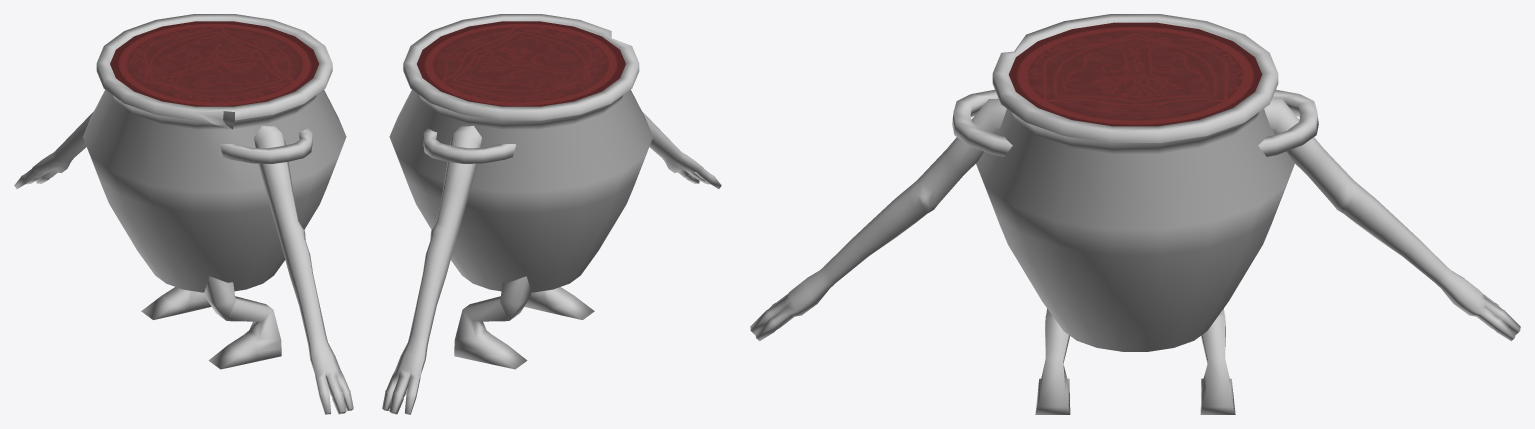
File: Alexandr.fbx
The picture shows the model from 3 angles, left to right: view 1: azimuth 30°, elevation 25°; view 2: azimuth 150°, elevation 25°; view 3: azimuth 270°, elevation 25°; orthographic projection. The views are drawn at different scales.
Parts seen in each view (by area): view 1: Cylinder.003; view 2: Cylinder.003; view 3: Cylinder.003.
Boxes of the visible parts, x1,y1,x2,y2 form: Cylinder.003: (14, 14, 353, 414); Cylinder.003: (382, 14, 721, 414); Cylinder.003: (750, 14, 1520, 414).
Bounding box in the file's own units: 109 × 125 × 267.
